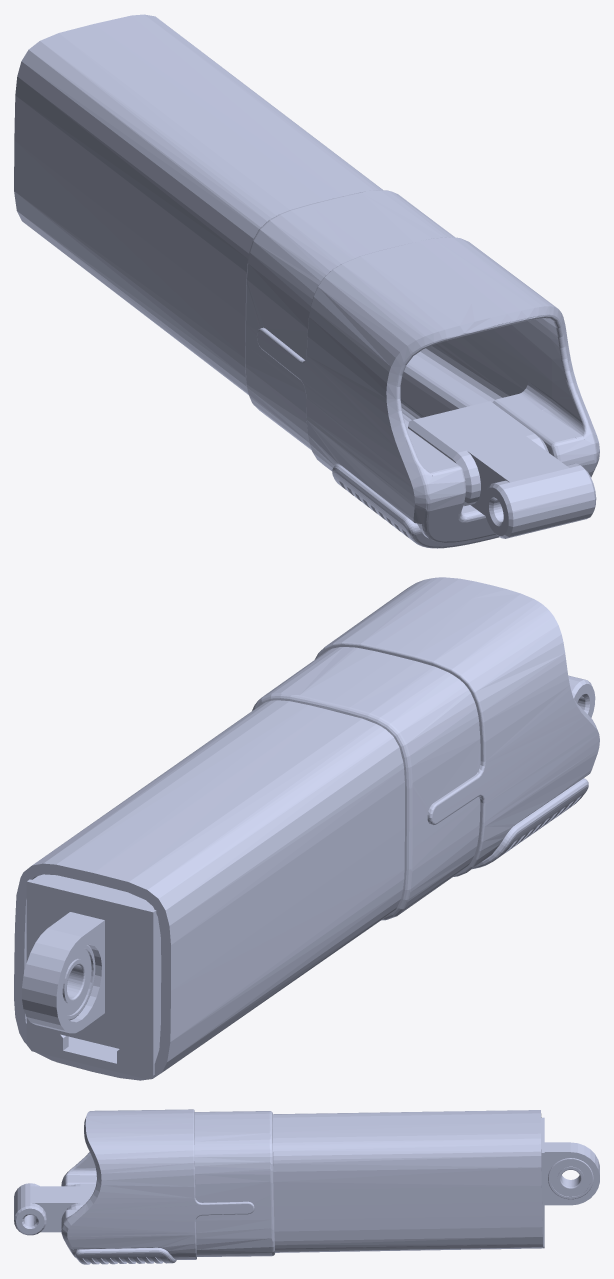
Rendered from rh_thumb_metacarpals_vis.obj.
3 renders of one model, top to bottom at view 1: azimuth 30°, elevation 25°; view 2: azimuth 150°, elevation 25°; view 3: azimuth 270°, elevation 25°, orthographic. The views are drawn at different scales.
Visible parts, largest first — view 1: rh_thumb_metacarpals; view 2: rh_thumb_metacarpals; view 3: rh_thumb_metacarpals.
Part boxes in pixels (x1=…): rh_thumb_metacarpals: x1=14, y1=14, x2=599, y2=548; rh_thumb_metacarpals: x1=14, y1=577, x2=599, y2=1080; rh_thumb_metacarpals: x1=14, y1=1109, x2=599, y2=1264.
Bounding box in the file's own units: 0.0189 × 0.0217 × 0.0897.
Materials: 1 (1 with a texture image).
